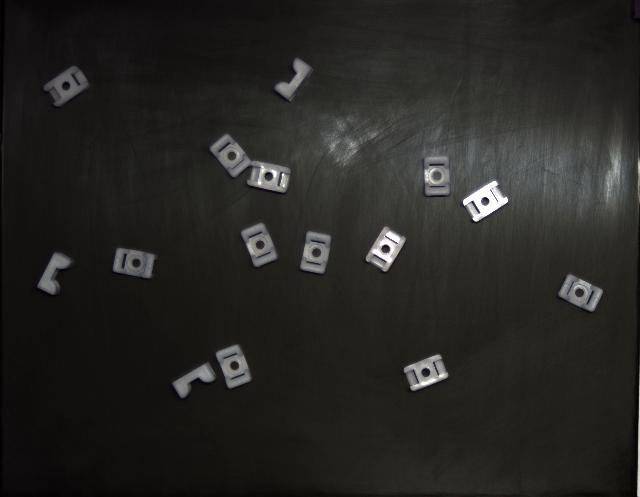first_side: (210, 134, 251, 178), (241, 224, 278, 268), (558, 275, 602, 312), (216, 345, 251, 389), (300, 231, 331, 275), (112, 249, 156, 279), (424, 156, 450, 196)
second_side: (44, 66, 90, 108), (462, 181, 508, 222), (365, 228, 406, 272), (404, 355, 449, 391), (248, 161, 291, 194)
third_side: (274, 58, 314, 101), (172, 362, 216, 399), (38, 253, 74, 295)
